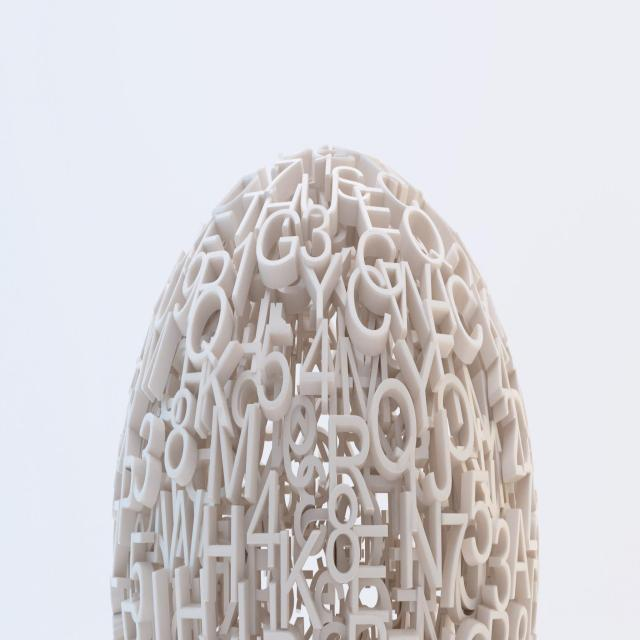Without deffect: (105, 130, 548, 640)
